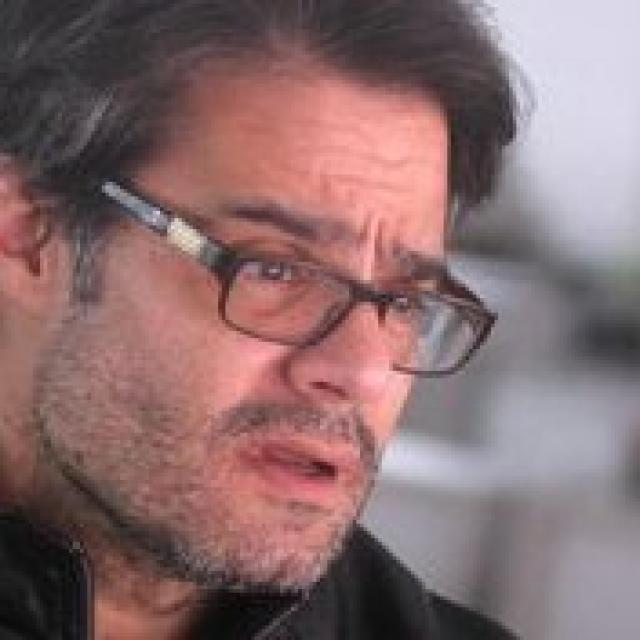Depress: (56, 53, 455, 595)
